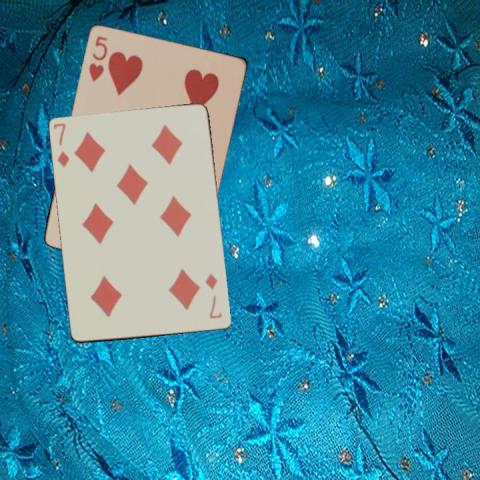5h: (85, 33, 109, 83)
7d: (203, 270, 224, 320), (51, 120, 71, 169)
